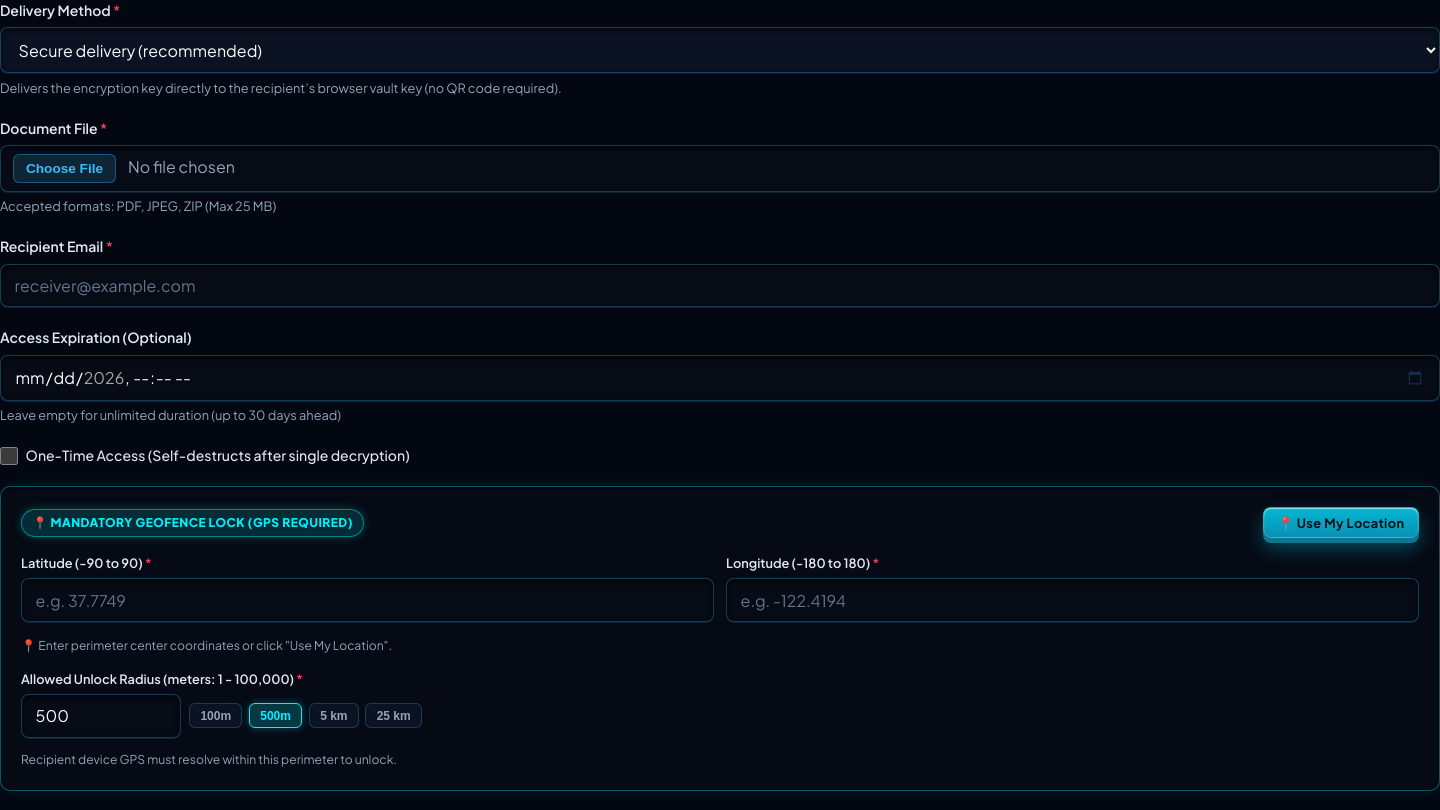
UploadForm Component Tests › Phase 7 Batch 2 Secure Delivery & Vault Key Integration › shows secure upload success message and no key or QR after secure upload
Earlier steps of the test are not shown.
Step 1. Type "alice@example.com" into the field labelled "Recipient Email *" → (720, 286), box [0, 264, 1439, 308]
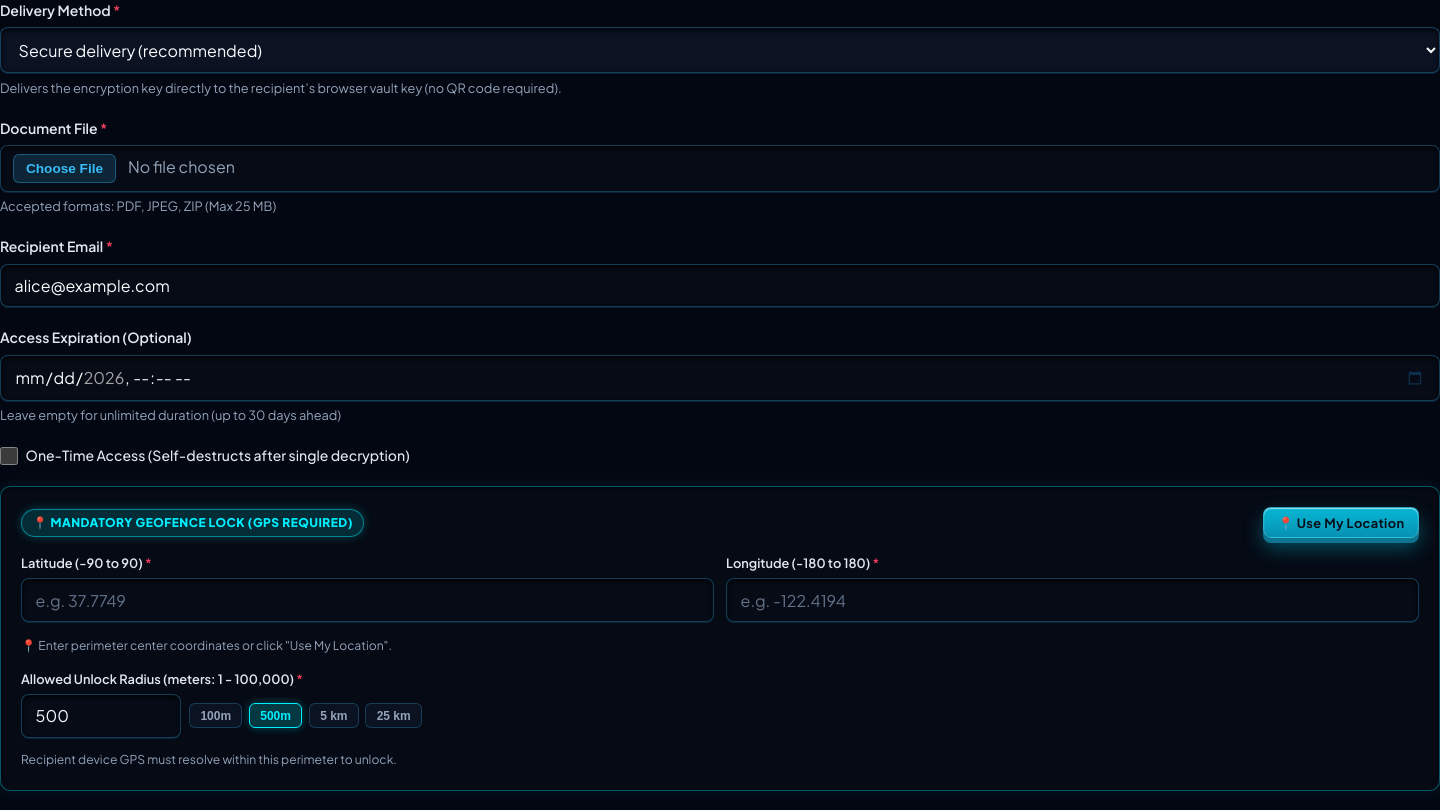
Step 2. Type "37.7749" into the number field labelled "Latitude (-90 to 90) *" → (368, 600), box [21, 578, 714, 622]
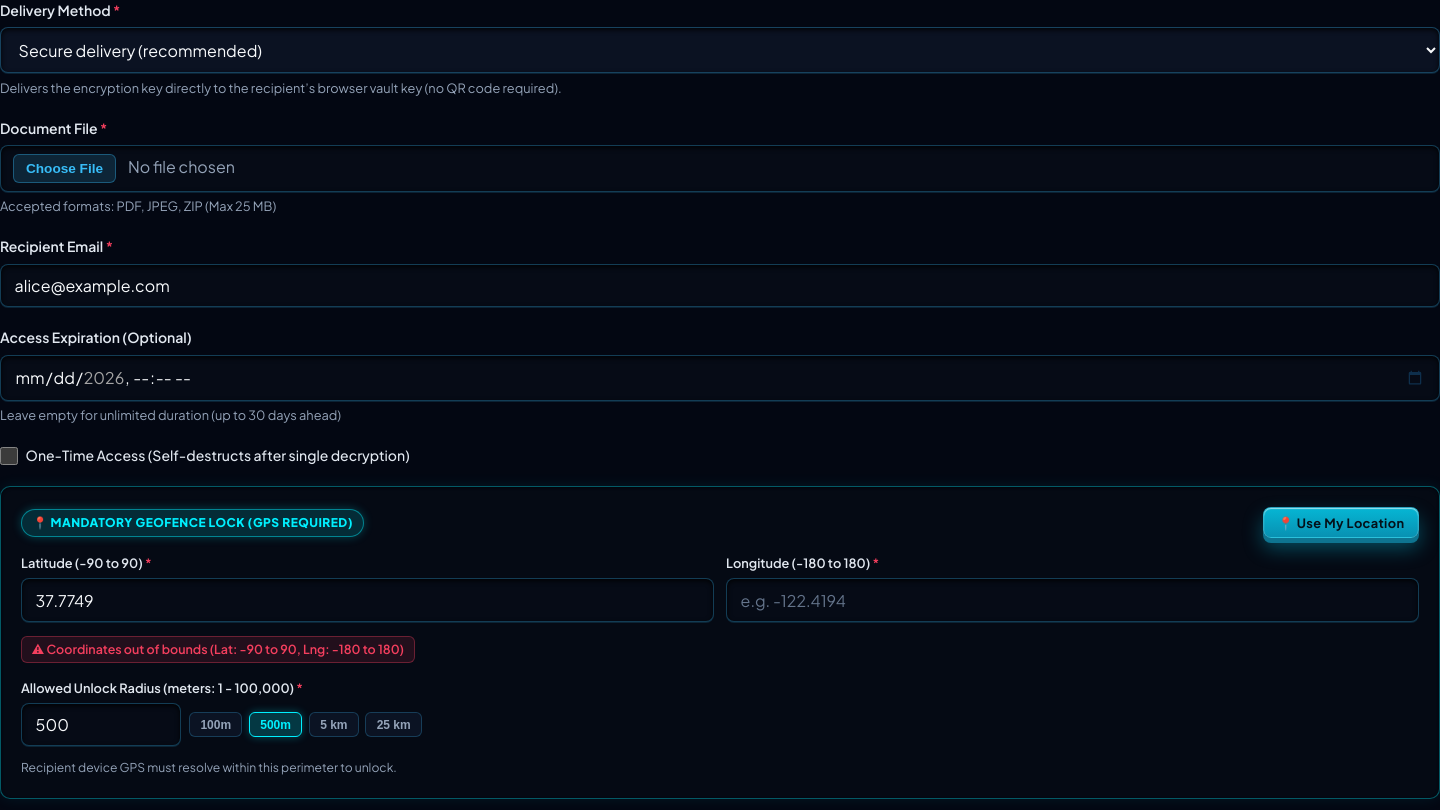
Step 3. Type "-122.4194" into the number field labelled "Longitude (-180 to 180) *" → (1072, 600), box [726, 578, 1419, 622]
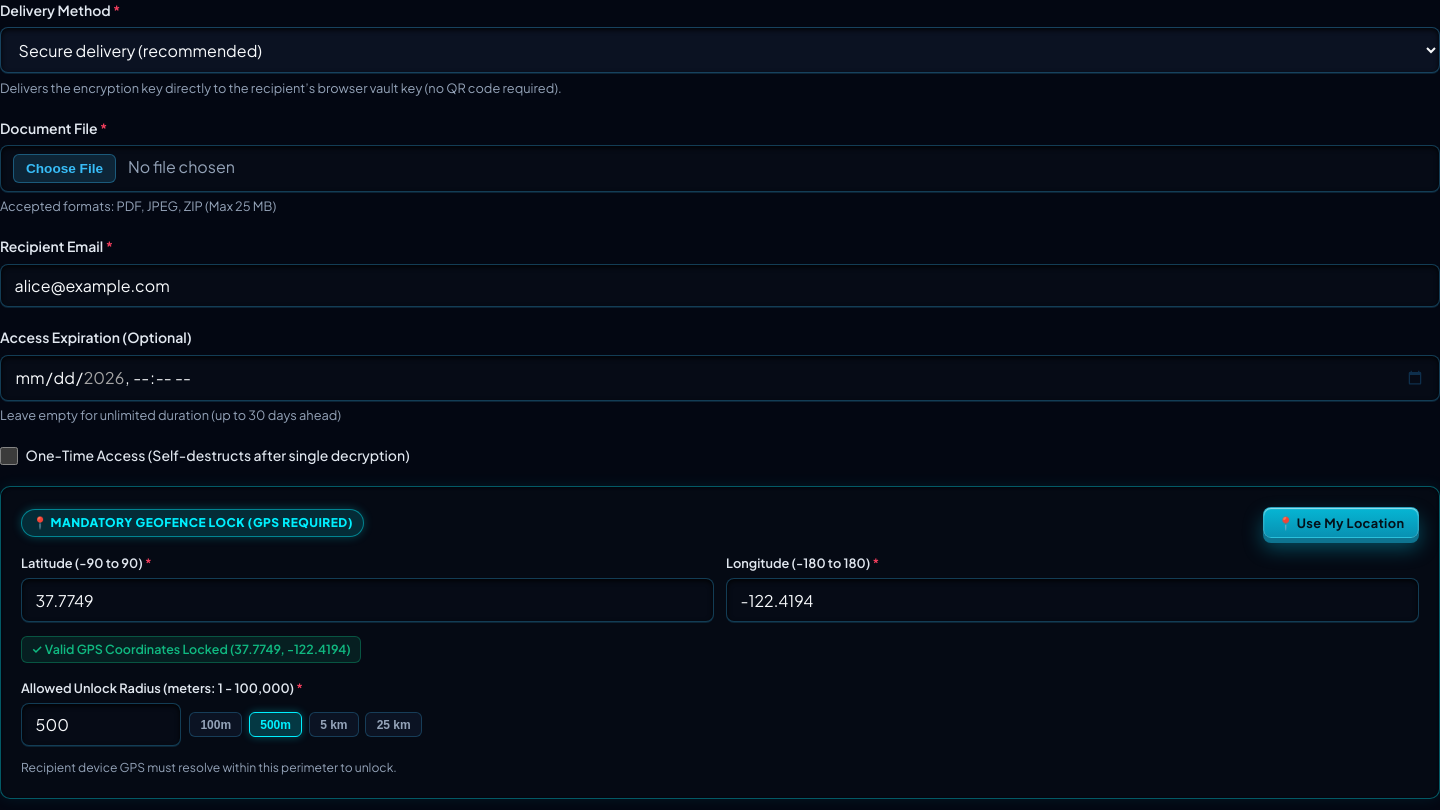
Step 4. Leave the field labelled "Recipient Email *", box [0, 264, 1439, 308]
(page scrolled)
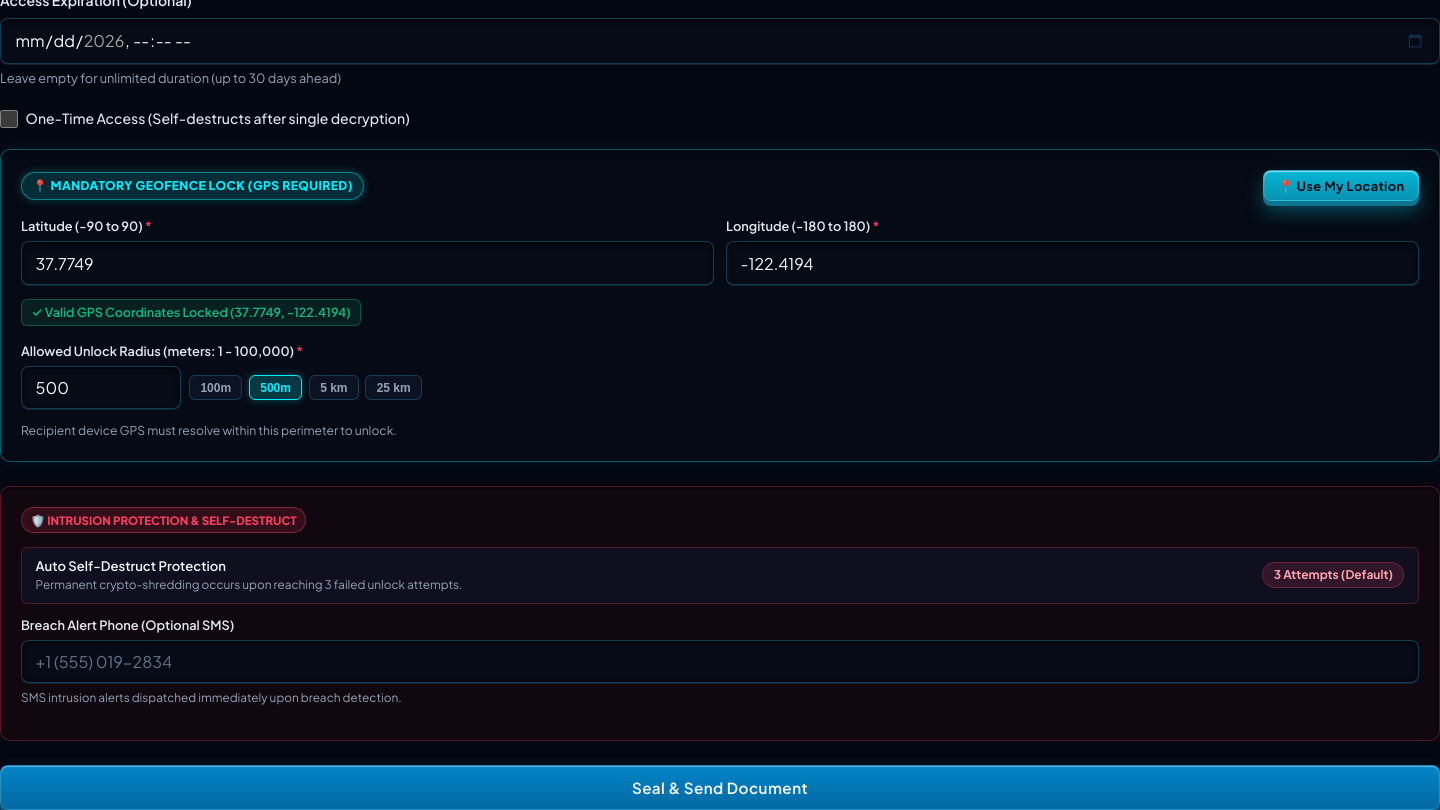
Step 5. Click the button "Seal & Send Document" → (720, 788), box [0, 765, 1439, 809]
(page scrolled)
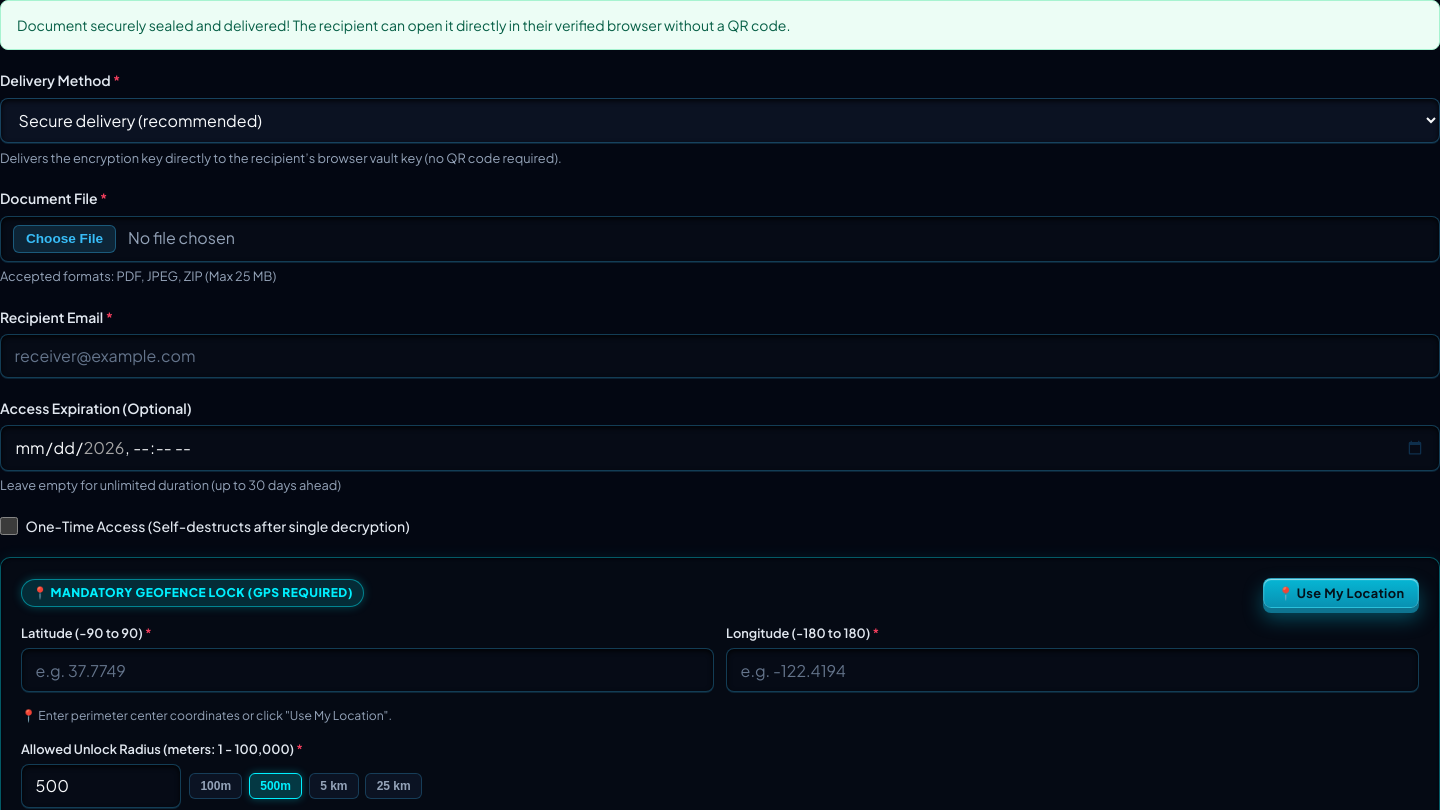
Expected: the message with test id "secure-upload-success" is shown, [0, 0, 1439, 50]
Expected: the message with test id "secure-upload-success" shows "Document securely sealed and delivered", [17, 16, 790, 34]
